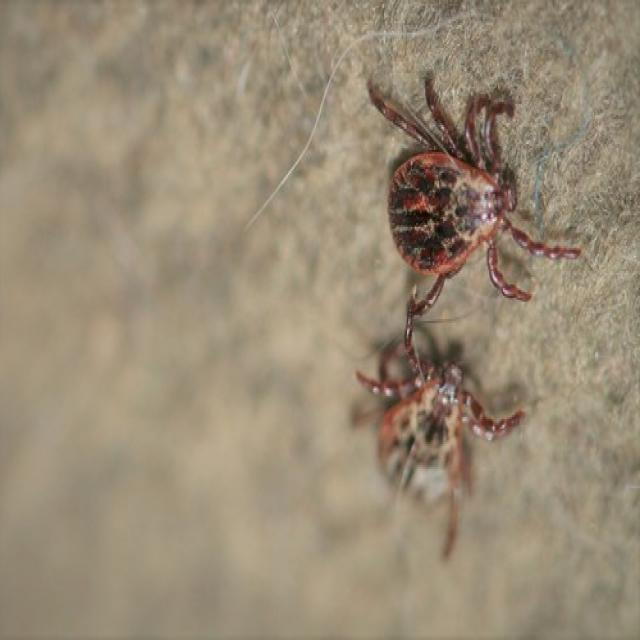Dermacentor Reticulatus-M: (367, 69, 582, 315), (352, 311, 525, 557)
